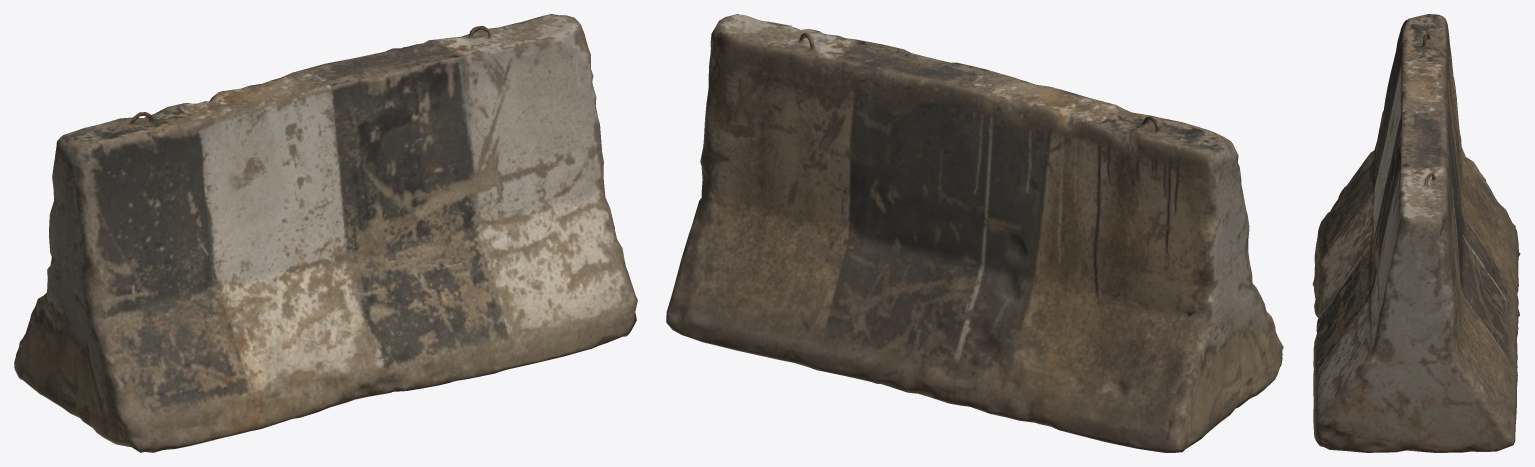
File: concrete_road_barrier.glb
3 renders of one model, left to right at view 1: azimuth 30°, elevation 25°; view 2: azimuth 150°, elevation 25°; view 3: azimuth 270°, elevation 25°, orthographic. The views are drawn at different scales.
Parts seen in each view (by area): view 1: concrete_road_barrier; view 2: concrete_road_barrier; view 3: concrete_road_barrier.
Boxes of the visible parts, left/top/right/bottom form: concrete_road_barrier: left=14, top=14, right=637, bottom=452; concrete_road_barrier: left=666, top=14, right=1283, bottom=452; concrete_road_barrier: left=1312, top=14, right=1520, bottom=452.
Bounding box in the file's own units: 1.55 × 0.8308 × 0.6387.
1 material, 1 textured.
